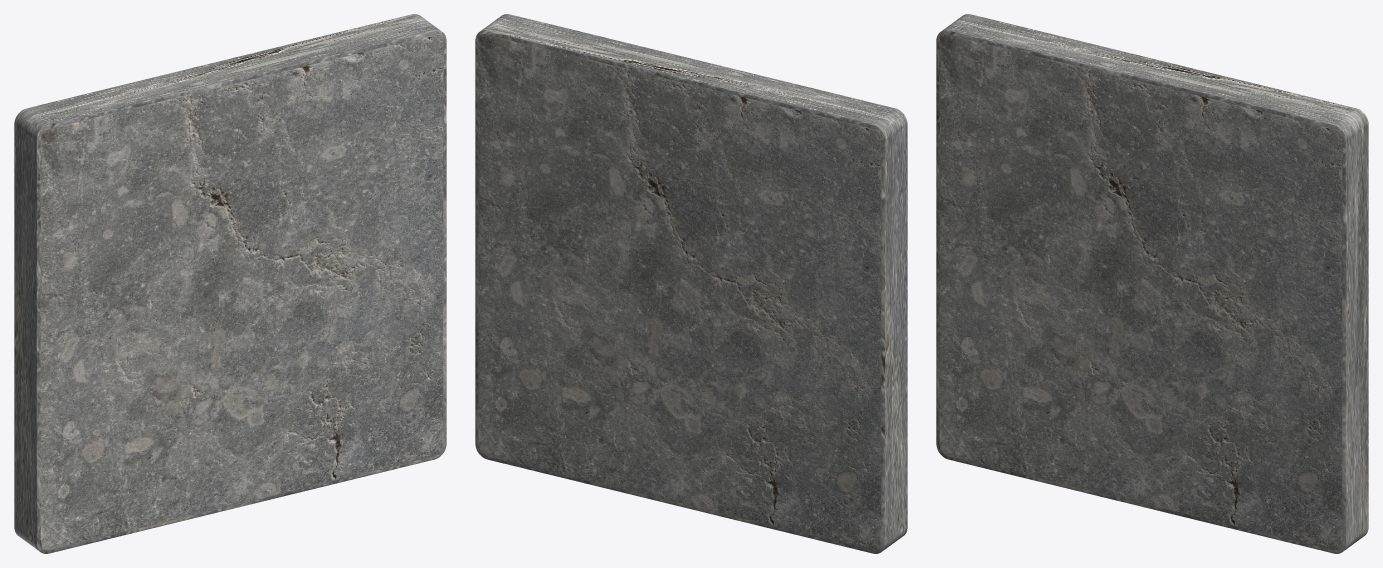
File: limestone-01.glb
3 views of the same model, side by side, from view 1: azimuth 30°, elevation 25°; view 2: azimuth 150°, elevation 25°; view 3: azimuth 330°, elevation 25° (orthographic).
Visible parts, largest first — view 1: Cube; view 2: Cube; view 3: Cube.
Part boxes in pixels (left/top/right/bottom): Cube: left=14, top=14, right=446, bottom=553; Cube: left=475, top=14, right=907, bottom=553; Cube: left=936, top=14, right=1368, bottom=553.
Bounding box in the file's own units: 0.1 × 0.1 × 0.01.
2 materials, 2 textured.
